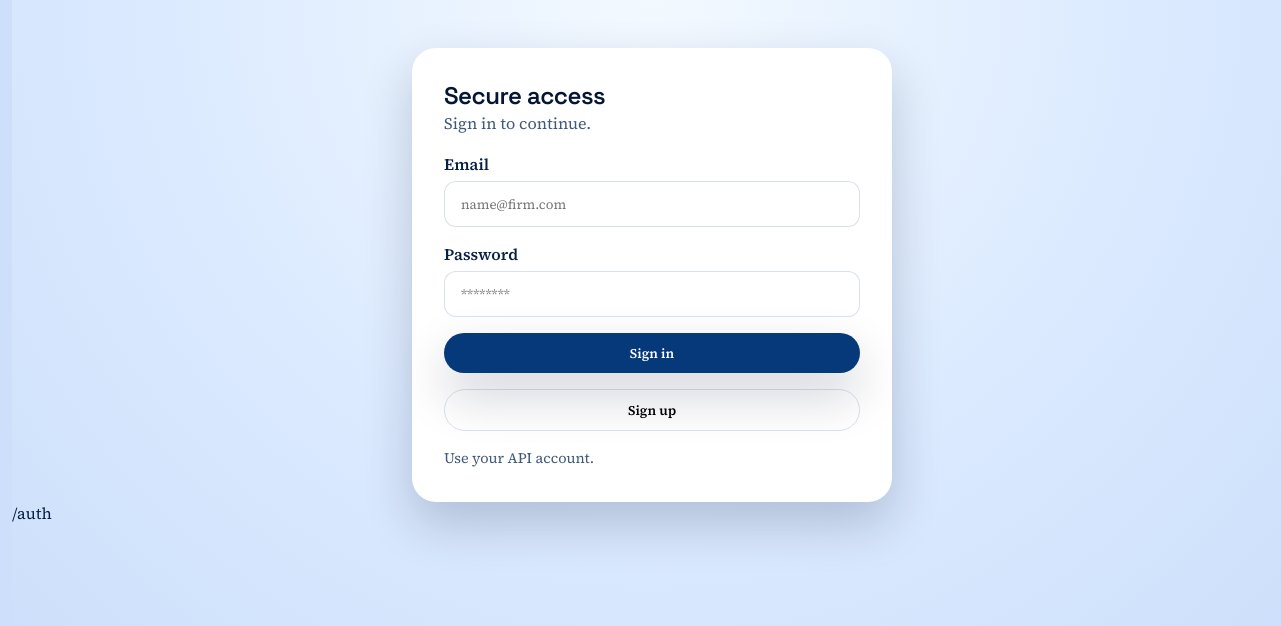
Test: Auth page › opens the assistant workspace after successful login
This screenshot has width=1281, height=626.
Type "local.dev@jurisdigta.test" into the field labelled "Email" at x=652, y=204, box [444,181,860,227]
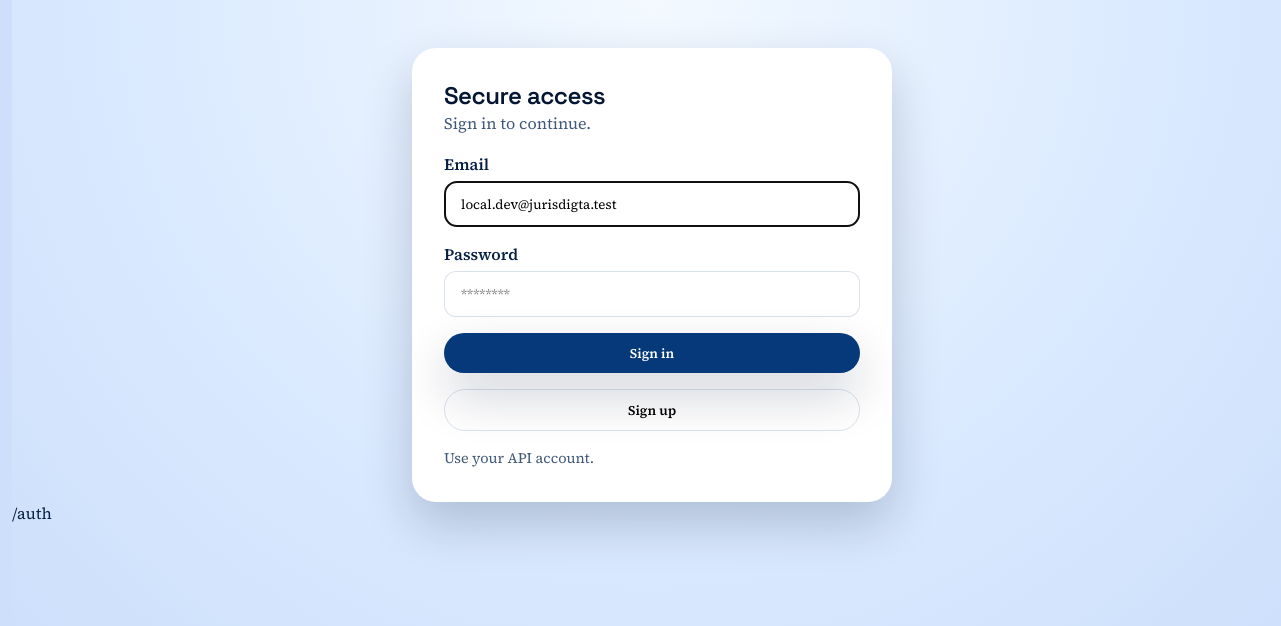
Type "LocalTest123!" into the password field labelled "Password" at x=652, y=294, box [444,271,860,317]
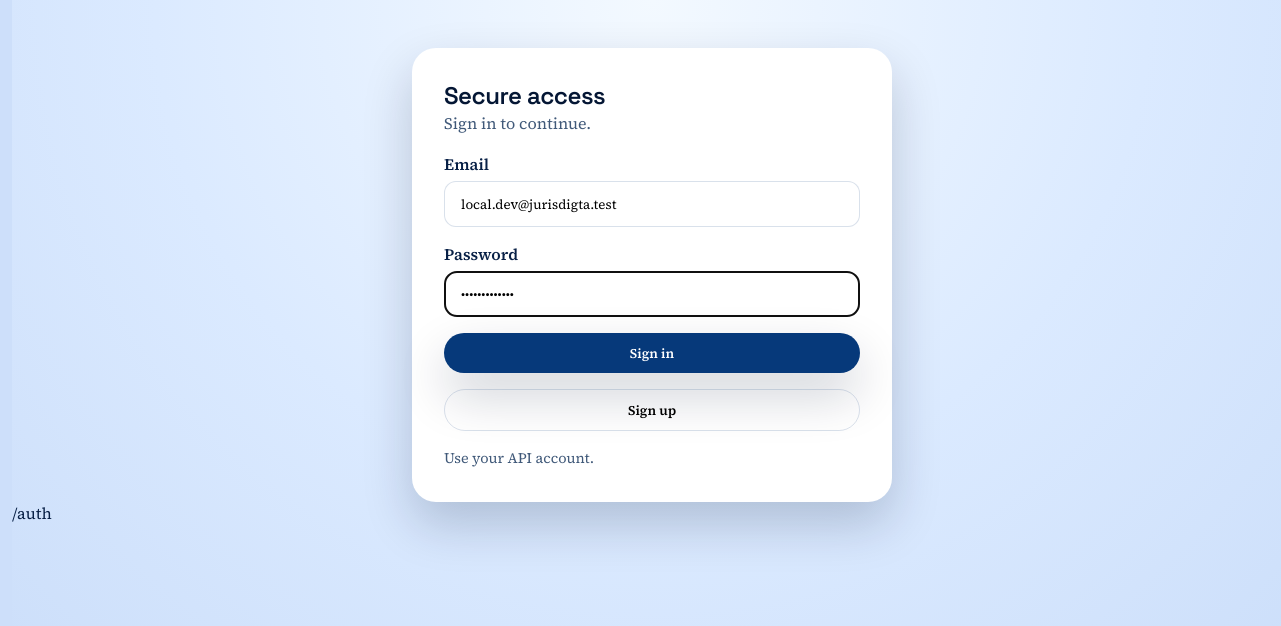
Click the button "Sign in" at x=652, y=353, box [444,333,860,373]
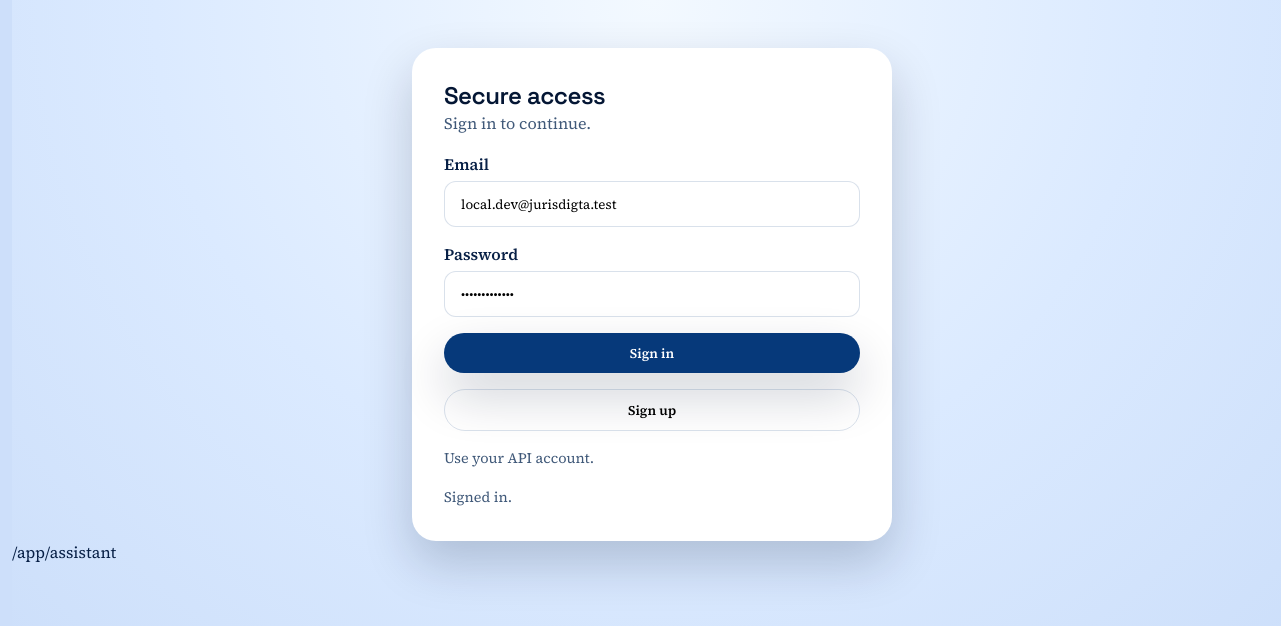
expect the text with test id "current-path" reads "/app/assistant": met, box [12,541,116,563]
